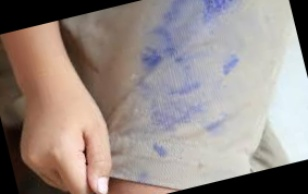ink: (124, 0, 221, 134), (196, 0, 244, 20), (219, 54, 243, 78), (204, 120, 228, 136), (153, 143, 164, 157)
